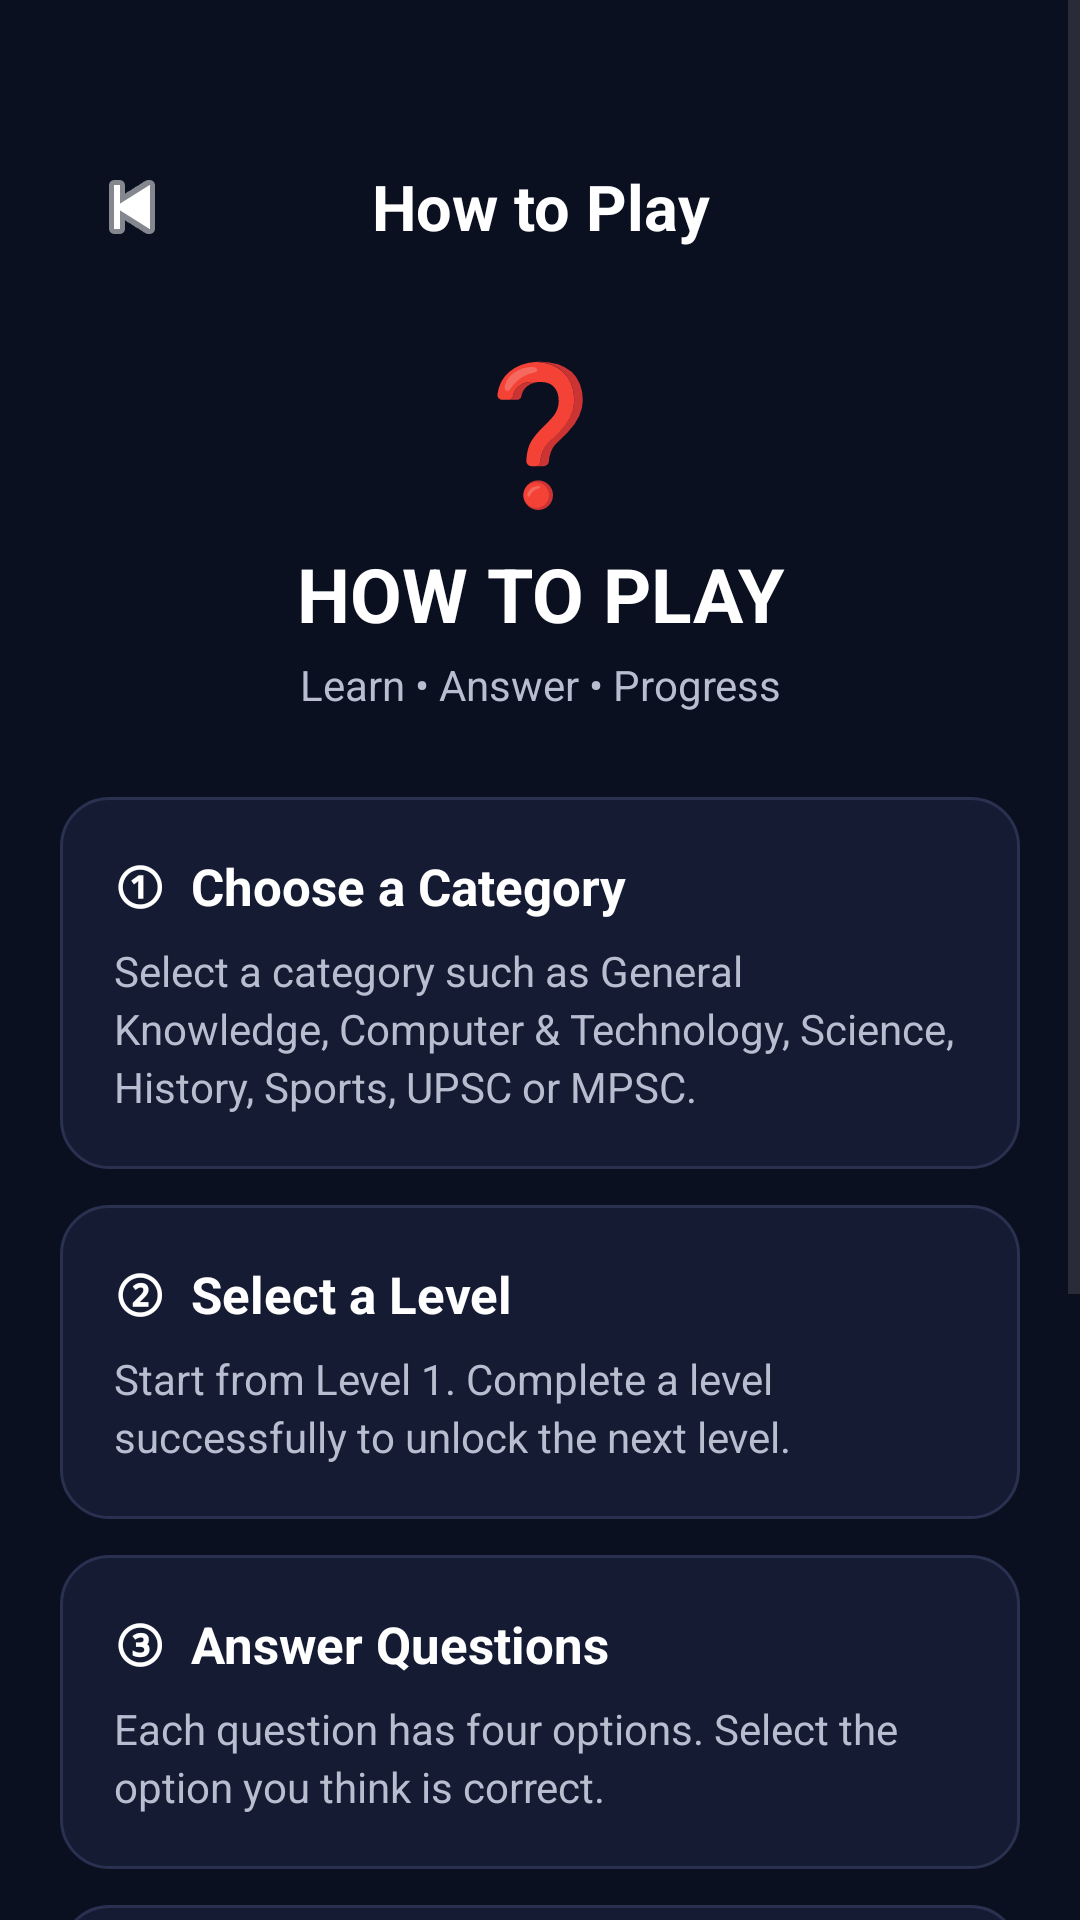

Screen size 1080 × 1920. Icon name, then its center in pixels as point (x, y):
Back: point (132, 207)
